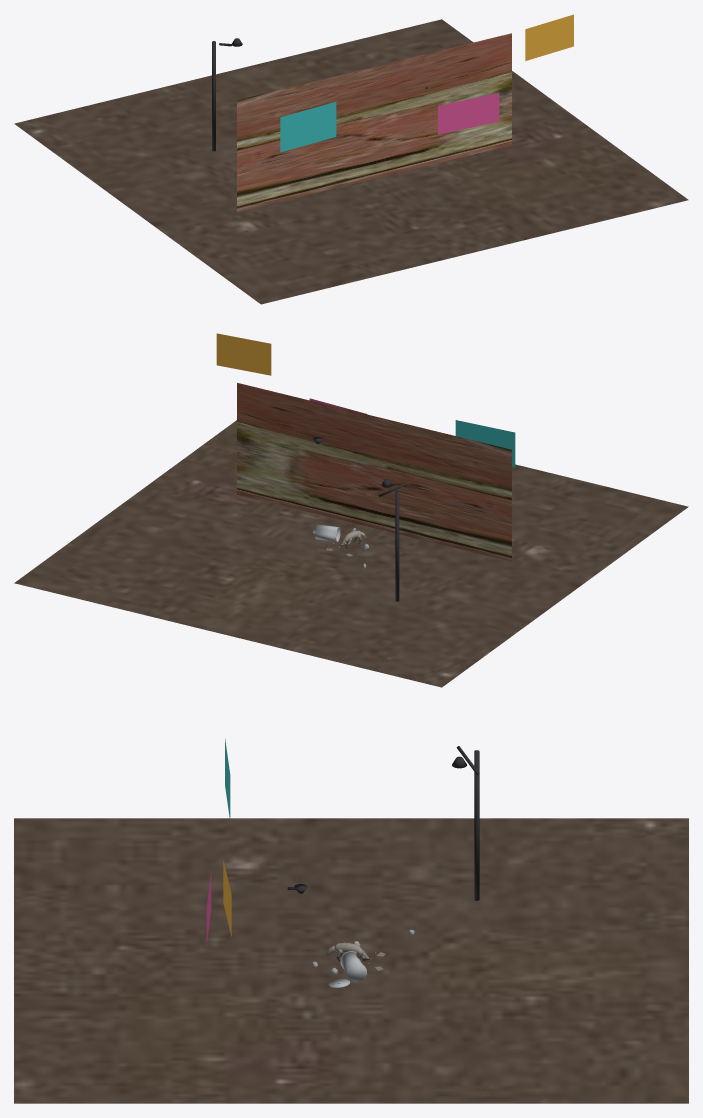
3 renders of one model, top to bottom at view 1: azimuth 30°, elevation 25°; view 2: azimuth 150°, elevation 25°; view 3: azimuth 270°, elevation 25°, orthographic. The views are drawn at different scales.
Visible parts, largest first — view 1: Env_Ground_Asphalt.001, Env_Wall_Brick.001, Env_Graffiti_01.001, Env_Graffiti_02.001, Env_Graffiti_03.001, Env_StreetLamp_Post.001; view 2: Env_Ground_Asphalt.001, Env_Wall_Brick.001, Env_Graffiti_03.001, Env_Graffiti_01.001, Env_StreetLamp_Post.001; view 3: Env_Ground_Asphalt.001, Env_StreetLamp_Post.001.
Boxes of the visible parts, box(x1,y1,x2,y2) form: Env_Ground_Asphalt.001: box(14, 19, 688, 304); Env_Wall_Brick.001: box(237, 33, 511, 211); Env_Graffiti_01.001: box(280, 102, 336, 152); Env_Graffiti_02.001: box(438, 93, 499, 134); Env_Graffiti_03.001: box(525, 14, 573, 60); Env_StreetLamp_Post.001: box(212, 38, 242, 151); Env_Ground_Asphalt.001: box(14, 420, 688, 687); Env_Wall_Brick.001: box(237, 383, 511, 561); Env_Graffiti_03.001: box(216, 333, 271, 375); Env_Graffiti_01.001: box(455, 420, 515, 467); Env_StreetLamp_Post.001: box(378, 479, 404, 601); Env_Ground_Asphalt.001: box(14, 818, 688, 1103); Env_StreetLamp_Post.001: box(452, 746, 479, 900).
Size of the model in its own units: 14 by 4.27 by 14.
16 materials, 2 textured.
